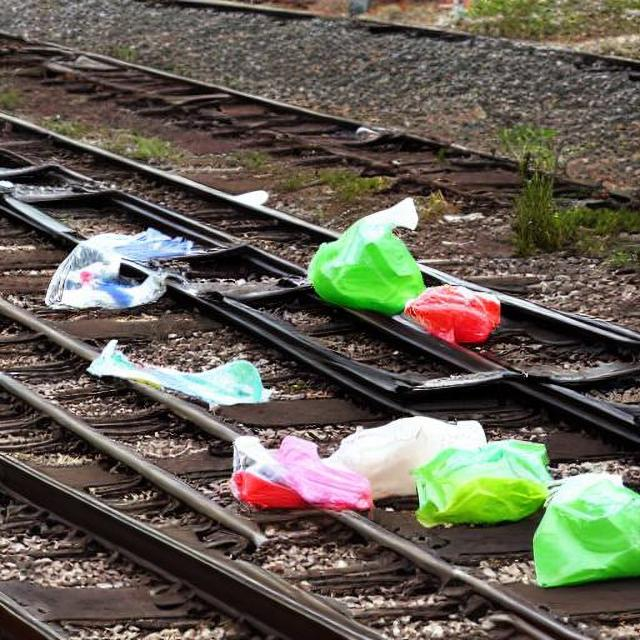plastic bag: (182, 410, 556, 531), (3, 187, 218, 322), (283, 178, 424, 340), (39, 336, 289, 414), (529, 472, 638, 584), (398, 266, 529, 354)
